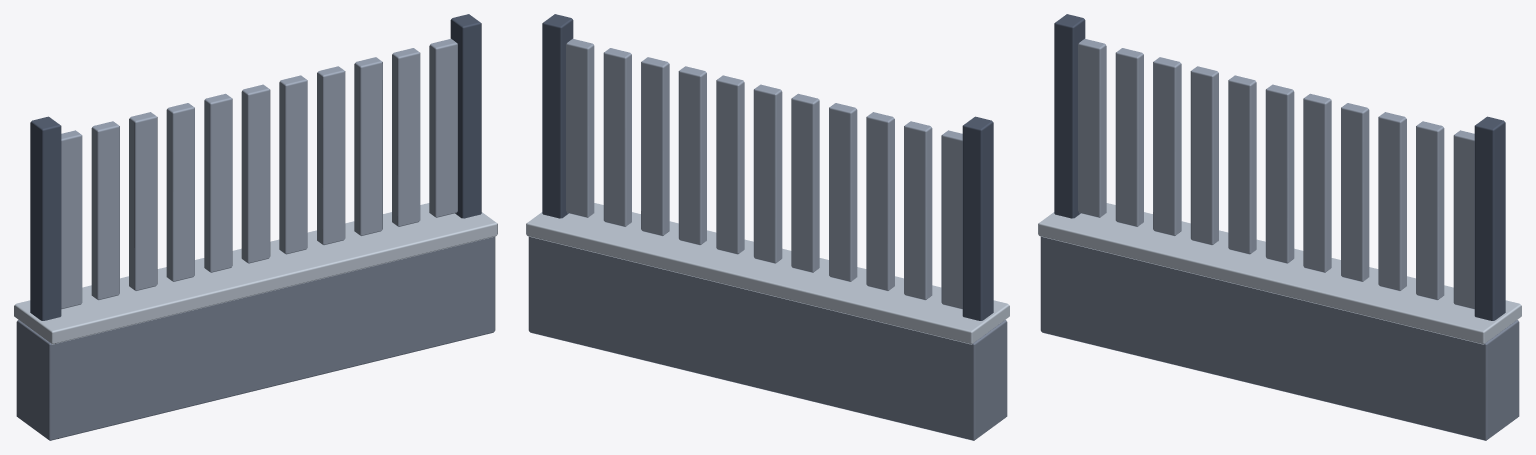
File: 板条矮墙-lite.glb
The picture shows the model from 3 angles, left to right: view 1: azimuth 30°, elevation 25°; view 2: azimuth 150°, elevation 25°; view 3: azimuth 330°, elevation 25°; orthographic projection.
Visible parts, largest first — view 1: garden-low-wall-slat; view 2: garden-low-wall-slat; view 3: garden-low-wall-slat.
Part boxes in pixels (left/top/right/bottom): garden-low-wall-slat: left=14, top=14, right=497, bottom=440; garden-low-wall-slat: left=526, top=14, right=1009, bottom=440; garden-low-wall-slat: left=1038, top=14, right=1521, bottom=440.
Bounding box in the file's own units: 2 × 1.3 × 0.2999.
